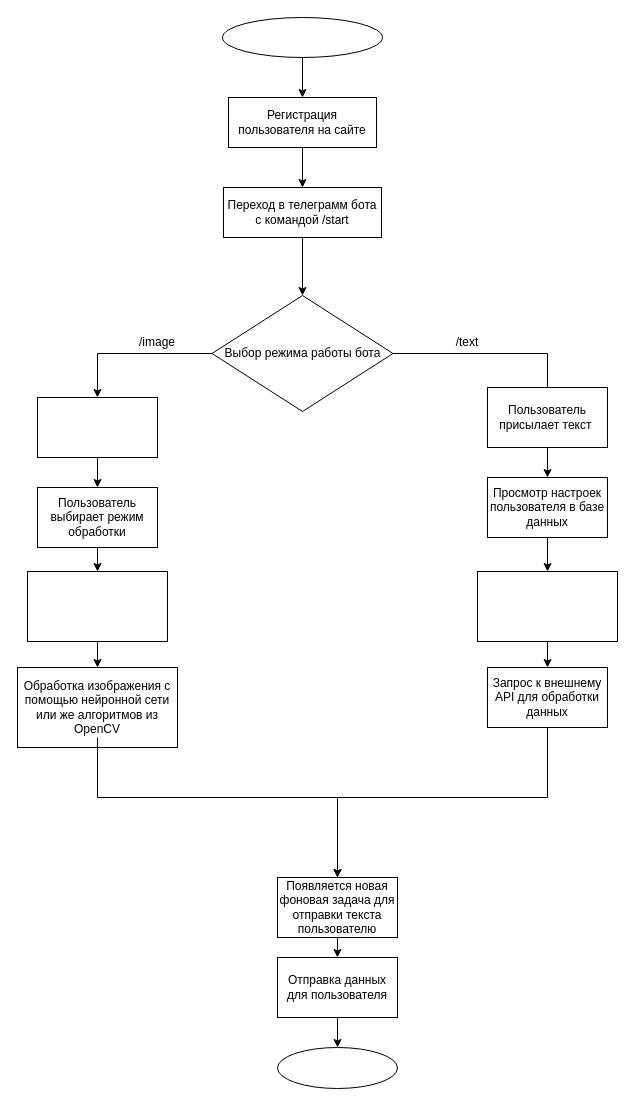
The diagram is 635 pixels wide and 1106 high, and some of its shapes have lost their labels. Each missing label, with the centre of its shape:
Задача на обработку изображения добавляется в очередь на выполнение: (97,606)
Задача на обработку текста добавляется в очередь на выполнение: (547,606)
Конец: (337,1067)
Начало: (302,37)
Пользователь присылает фотографию: (97,427)
